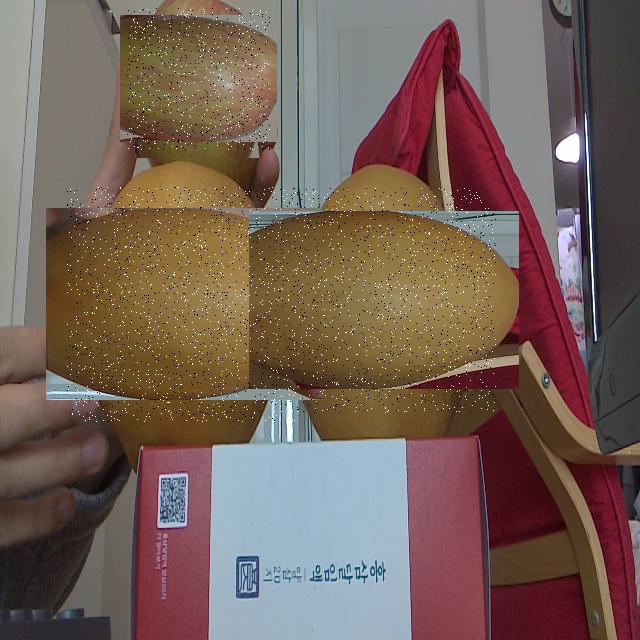apple: (127, 8, 270, 150)
pear: (67, 187, 301, 422), (272, 188, 496, 413)
